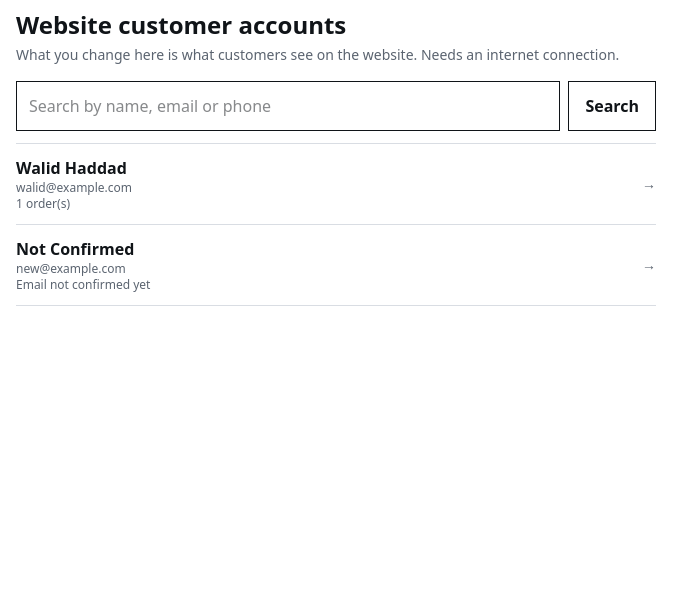
Test: the website accounts screen › merges into the suggested counter customer
Step 1. Click the button "Walid Haddad walid@example.com 1 order(s) ←" → click(71, 168), box [16,144,656,224]
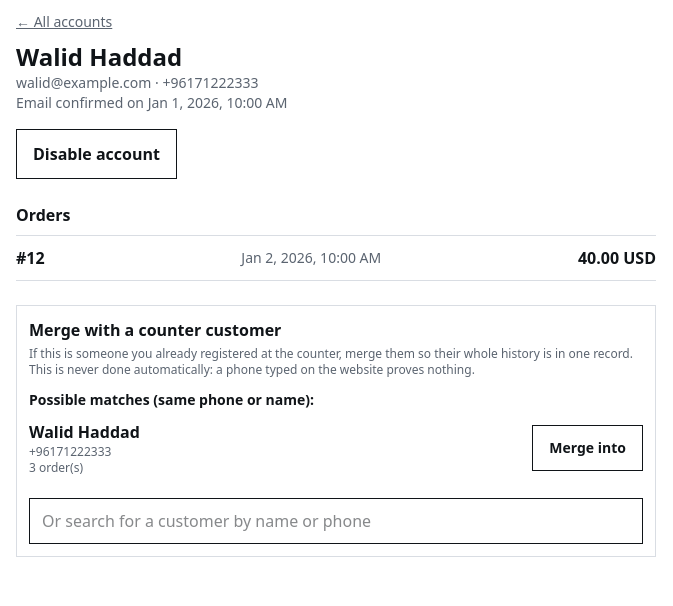
Check: the text "Possible matches (same phone or name):" is shown, box [29,390,314,409]
Step 2. Click the button "Merge into" → click(588, 448), box [532,425,643,471]
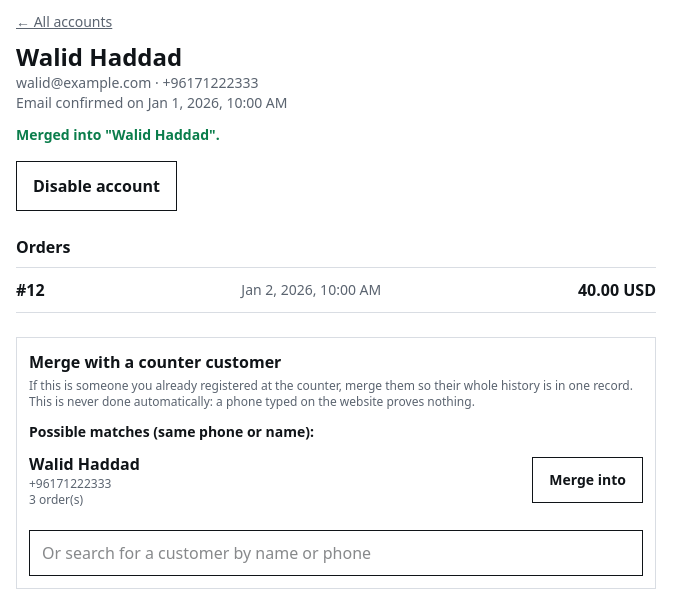
Check: the text "Merged into \"Walid Haddad\"." is shown, box [16,125,220,144]
